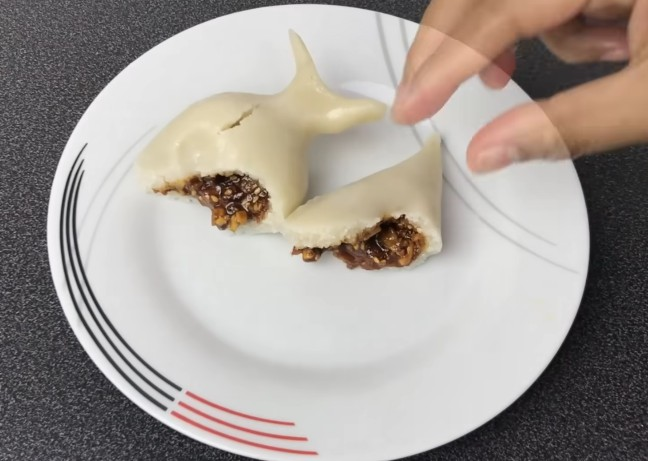yomari: (223, 22, 389, 154), (369, 127, 467, 236)
